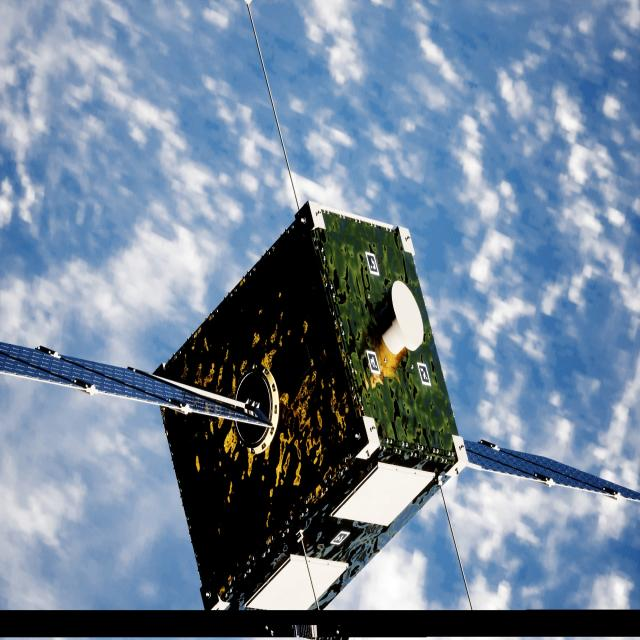medium_debris: (0, 204, 640, 612)
